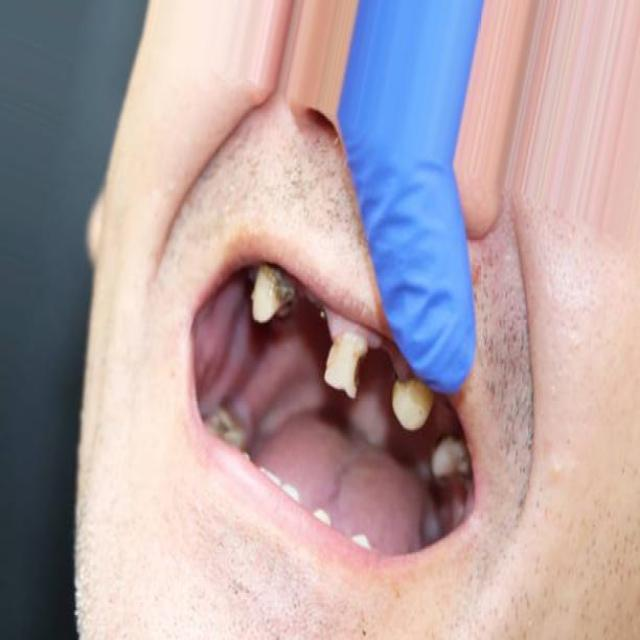caries: (320, 316, 373, 412), (245, 258, 304, 338)
